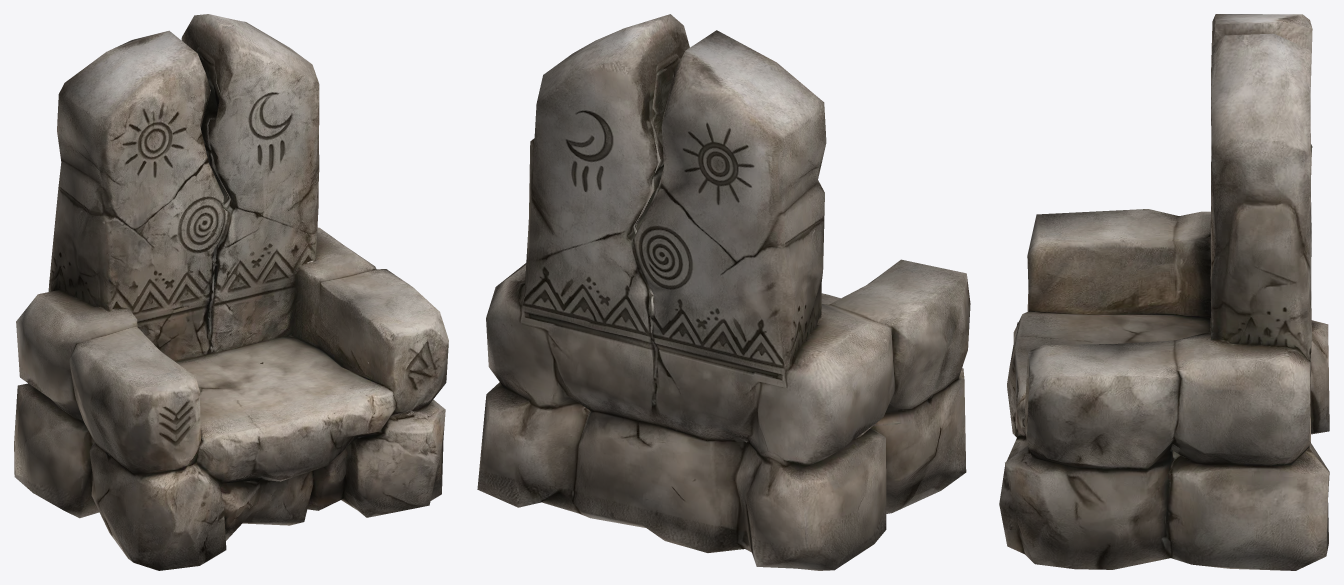
Rendered from stone-throne.glb.
3 renders of one model, left to right at view 1: azimuth 30°, elevation 25°; view 2: azimuth 150°, elevation 25°; view 3: azimuth 270°, elevation 25°, orthographic. The views are drawn at different scales.
Visible parts, largest first — view 1: Mesh1.0; view 2: Mesh1.0; view 3: Mesh1.0.
Boxes of the visible parts, x1,y1,x2,y2 form: Mesh1.0: (14,14,448,570); Mesh1.0: (477,14,970,570); Mesh1.0: (999,14,1329,570).
Bounding box in the file's own units: 1.56 × 1.92 × 1.21.
Materials: 1 (1 with a texture image).
